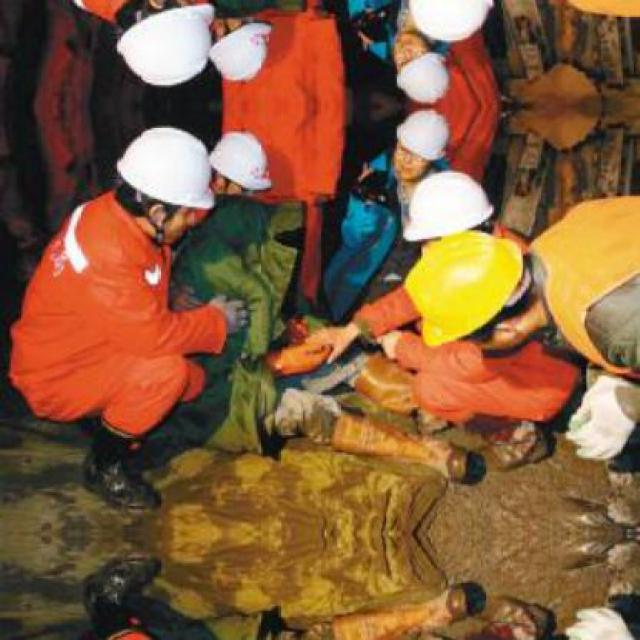helmet: (380, 214, 543, 374), (114, 120, 220, 236), (114, 0, 221, 94), (394, 165, 498, 256), (204, 129, 276, 203), (204, 10, 276, 84), (394, 0, 498, 48), (394, 110, 455, 180), (394, 33, 455, 103)
